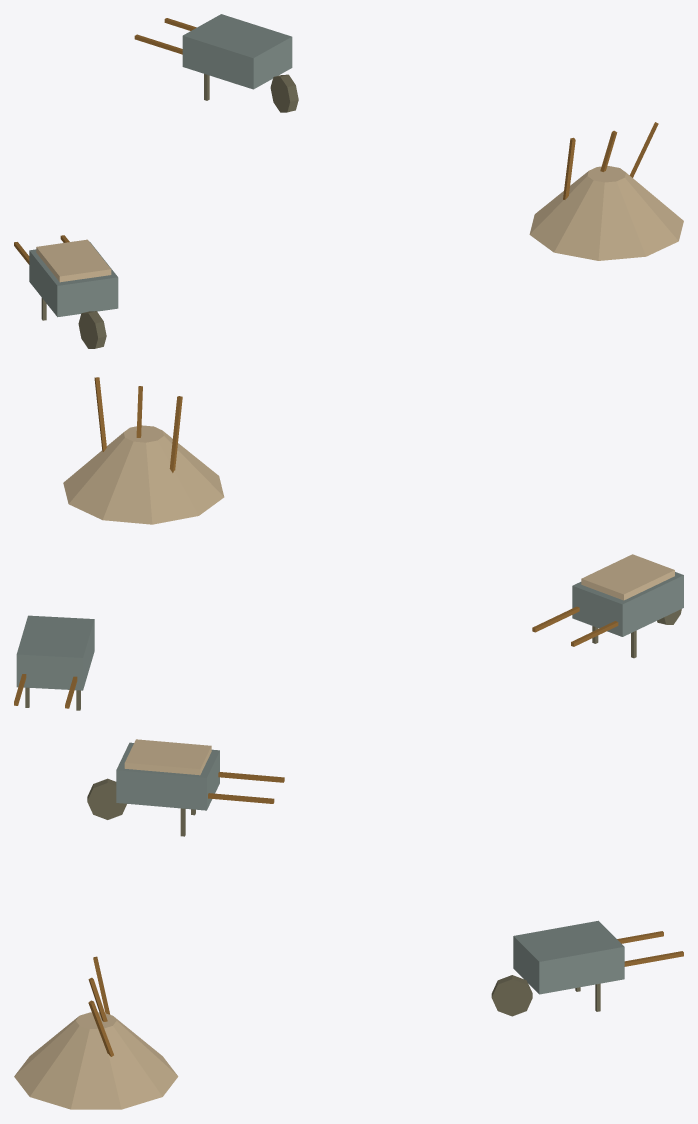
The model's file is SM_ObraHerramientas_v2_10m_LOD0.fbx.
The picture shows the model from 3 angles, top to bottom: view 1: azimuth 30°, elevation 25°; view 2: azimuth 150°, elevation 25°; view 3: azimuth 270°, elevation 25°; orthographic projection. The views are drawn at different scales.
Parts seen in each view (by area): view 1: SM_obra_curso_v15_LOD0; view 2: SM_obra_curso_v15_LOD0; view 3: SM_obra_curso_v15_LOD0.
Boxes of the visible parts, box(x1,y1,x2,y2) form: SM_obra_curso_v15_LOD0: box(14, 14, 683, 348); SM_obra_curso_v15_LOD0: box(14, 377, 683, 710); SM_obra_curso_v15_LOD0: box(14, 739, 683, 1109).
Bounding box in the file's own units: 7 × 1.11 × 6.52.
